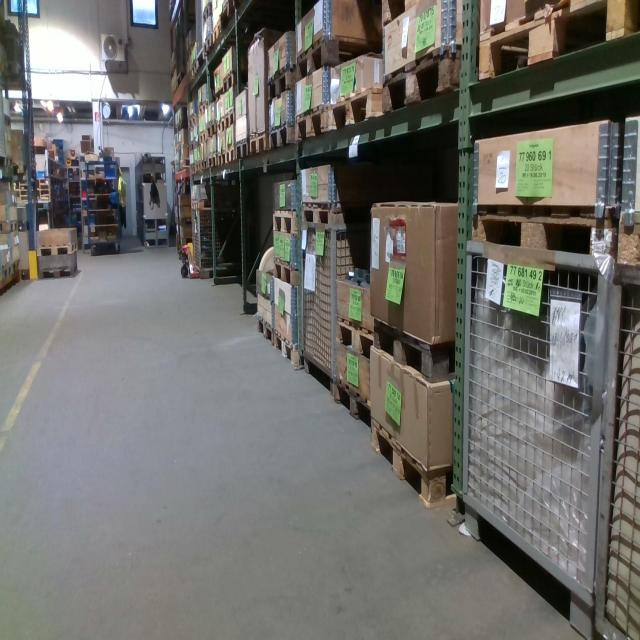pallet: (474, 5, 639, 76), (368, 412, 465, 510), (468, 203, 615, 263), (382, 43, 467, 118), (373, 318, 461, 379), (299, 32, 381, 76), (332, 85, 386, 137), (332, 370, 376, 433), (299, 200, 373, 235), (335, 312, 382, 358), (297, 107, 338, 152), (275, 328, 304, 376), (267, 63, 298, 101), (269, 120, 298, 158), (269, 203, 302, 232), (273, 262, 301, 290), (255, 312, 276, 347), (223, 68, 247, 96), (251, 129, 270, 163), (220, 1, 242, 27), (39, 268, 79, 281), (34, 245, 80, 255), (226, 105, 240, 133), (236, 140, 250, 167), (0, 218, 19, 235), (200, 2, 213, 25), (204, 32, 213, 64), (207, 148, 219, 171), (0, 260, 11, 285), (226, 143, 236, 170), (197, 99, 210, 118), (213, 84, 224, 106), (10, 255, 20, 276), (216, 116, 227, 135), (208, 115, 217, 138), (211, 18, 219, 42), (201, 155, 210, 176), (198, 131, 208, 149), (188, 138, 199, 154), (218, 152, 227, 171), (189, 200, 207, 208), (188, 113, 197, 127), (189, 160, 197, 175), (197, 158, 203, 176)
pallet_truck: (170, 165, 203, 283)
stillage: (464, 239, 614, 640), (593, 253, 639, 640), (301, 221, 372, 401), (191, 199, 240, 280)
